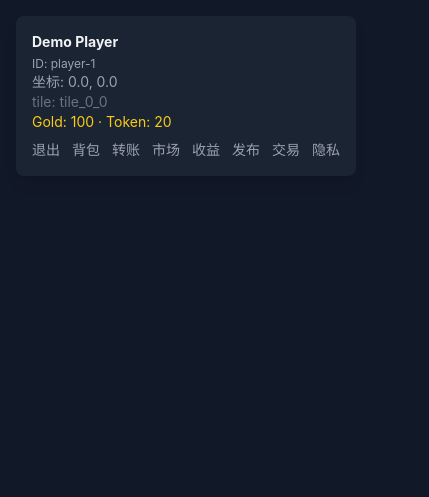
Test: PlayerHUD inventory › shows creator works and publishes drafts
Click the button "发布" at point(246, 150), box [232, 140, 260, 160]
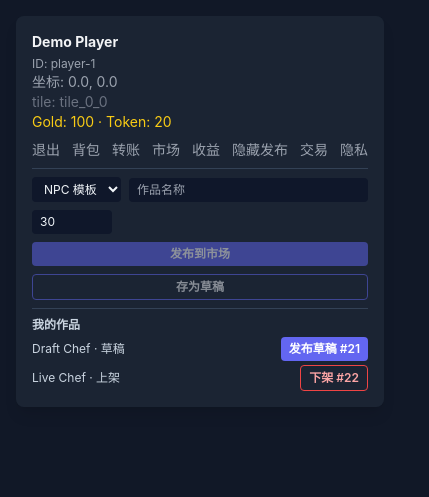
Expected: the text "Draft Chef · 草稿" is shown, [32, 341, 125, 357]
Click the button "发布草稿 #21" at point(324, 349), box [281, 337, 368, 361]
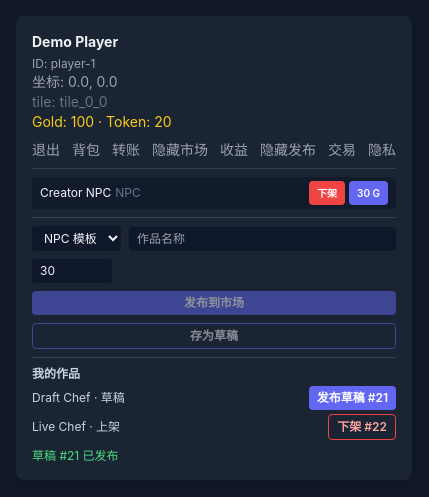
Expected: the text "草稿 #21 已发布" is shown, [32, 448, 119, 463]
